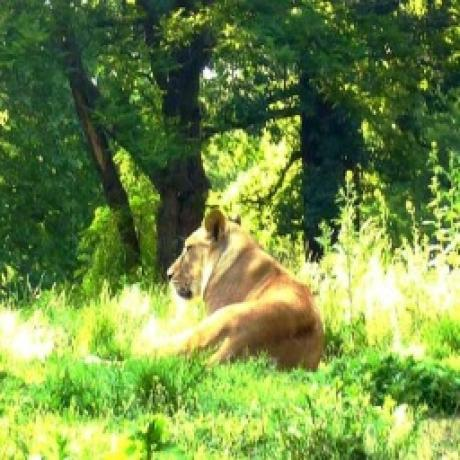Lion: (140, 206, 325, 379)
